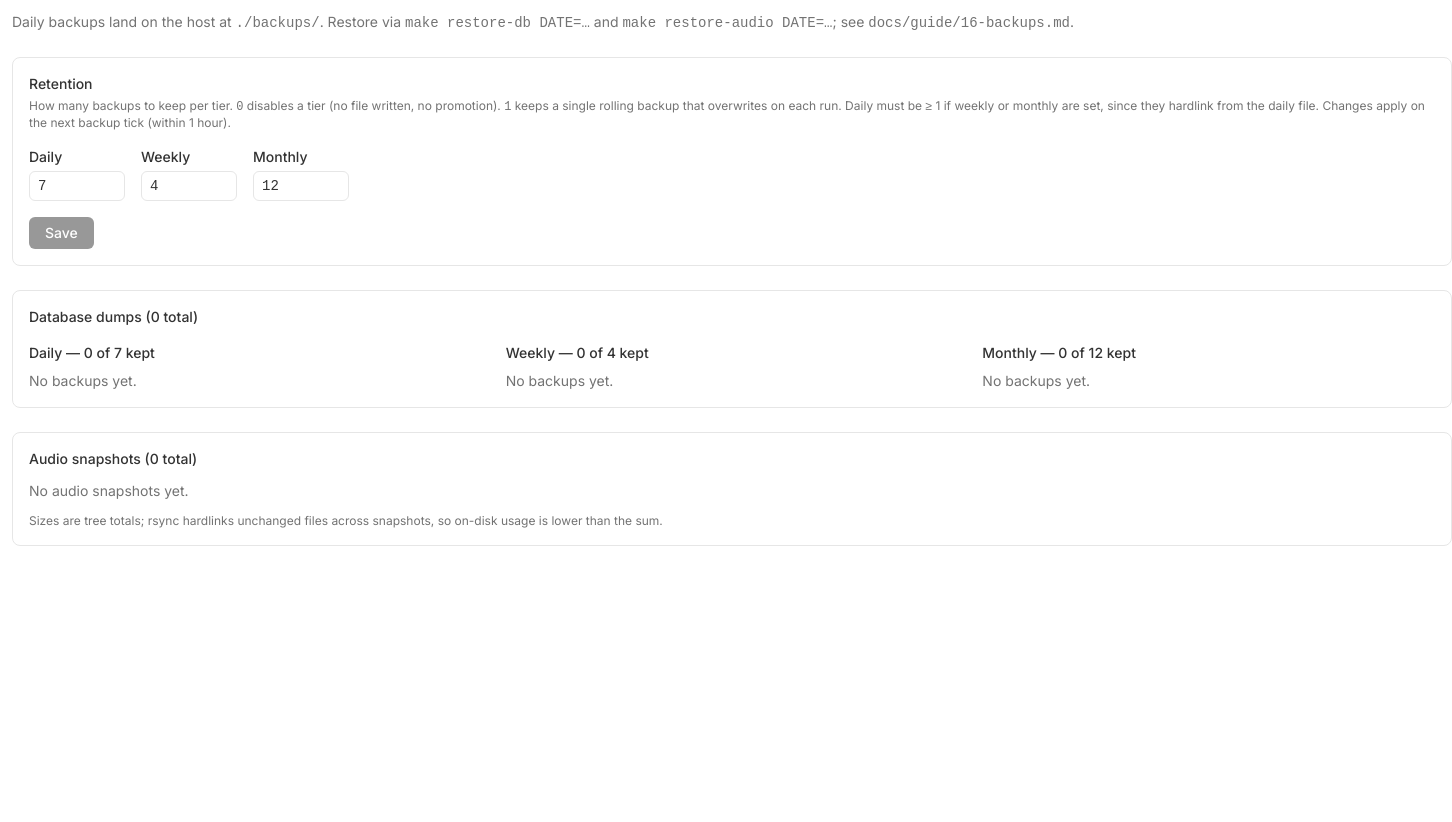
Test: <BackupsSection> › flags the daily=0 + weekly>0 combo client-side and disables Save
Replace the text in the number field labelled "Daily" with "0" at (77, 186), box [29,171,125,201]
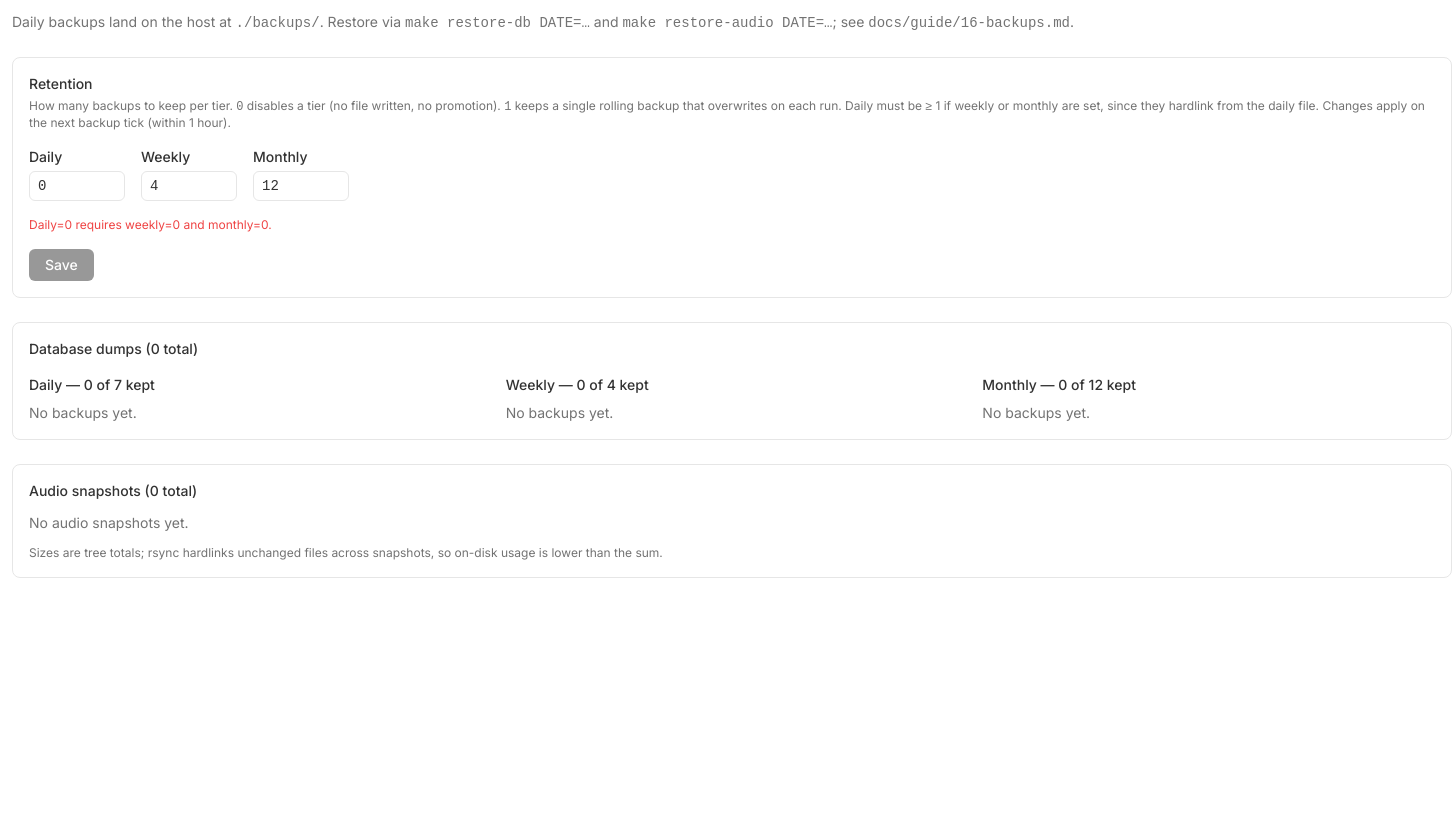
Expected: the button "Save" is disabled, [29,249,94,281]
Now the text "Daily=0 requires weekly=0 and monthly=0." is shown, box [29,217,272,232]
